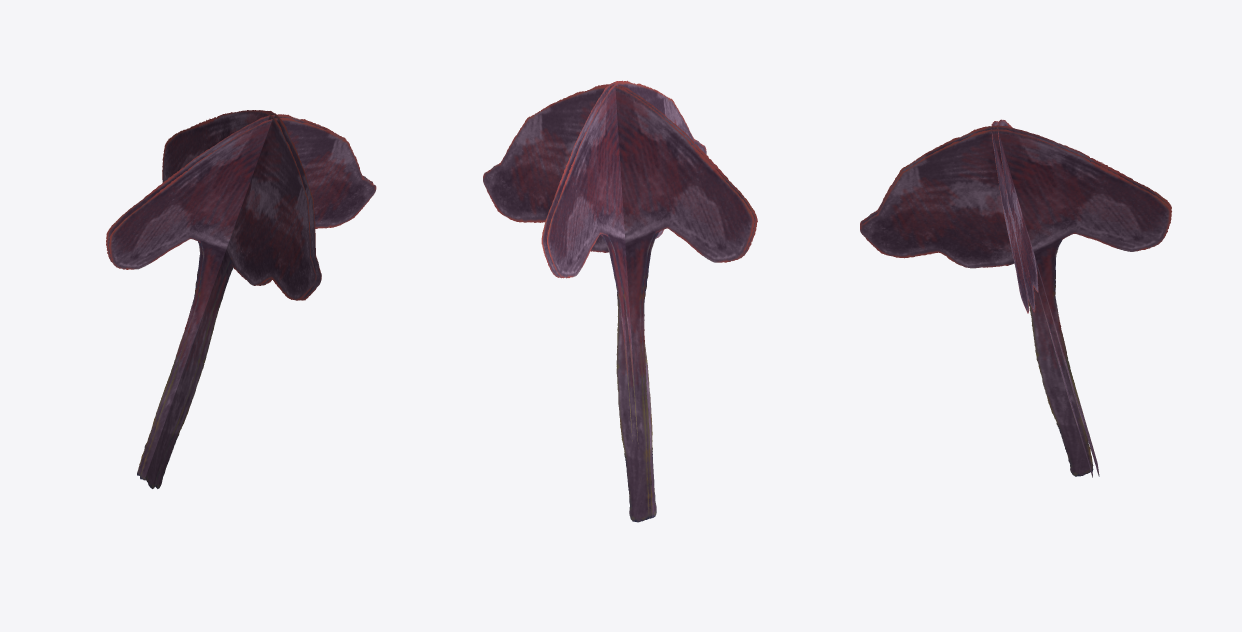
File: PurpleMushroom4.fbx
The picture shows the model from 3 angles, left to right: view 1: azimuth 30°, elevation 25°; view 2: azimuth 150°, elevation 25°; view 3: azimuth 270°, elevation 25°; orthographic projection.
Visible parts, largest first — view 1: PurpleMushroom4; view 2: PurpleMushroom4; view 3: PurpleMushroom4.
Part boxes in pixels (x1,y1,x2,y2): PurpleMushroom4: (106,110,376,488); PurpleMushroom4: (483,80,757,522); PurpleMushroom4: (860,119,1171,477).
Bounding box in the file's own units: 240 × 312 × 240.
Materials: 1 (1 with a texture image).
